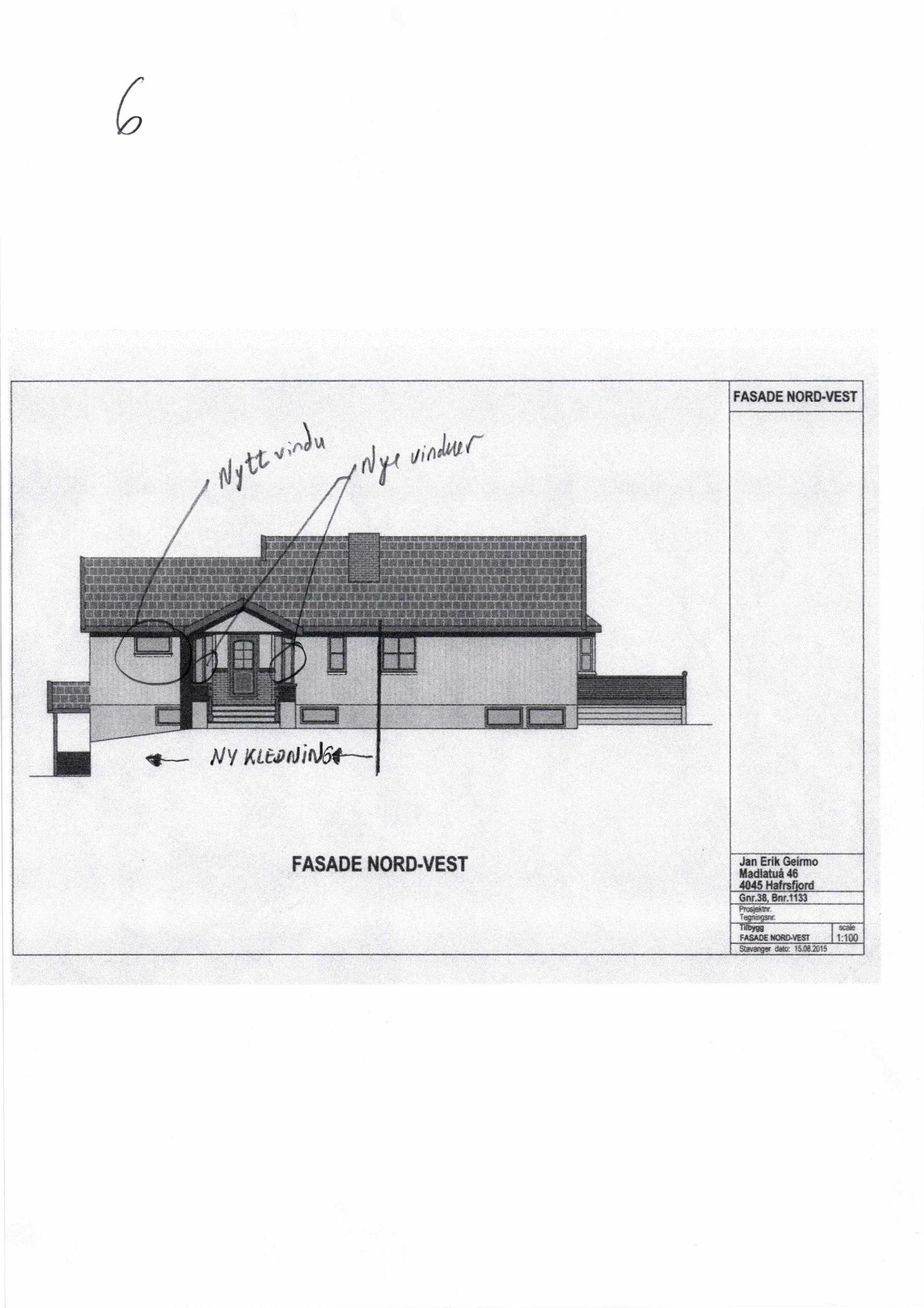fasade: (47, 534, 687, 778)
